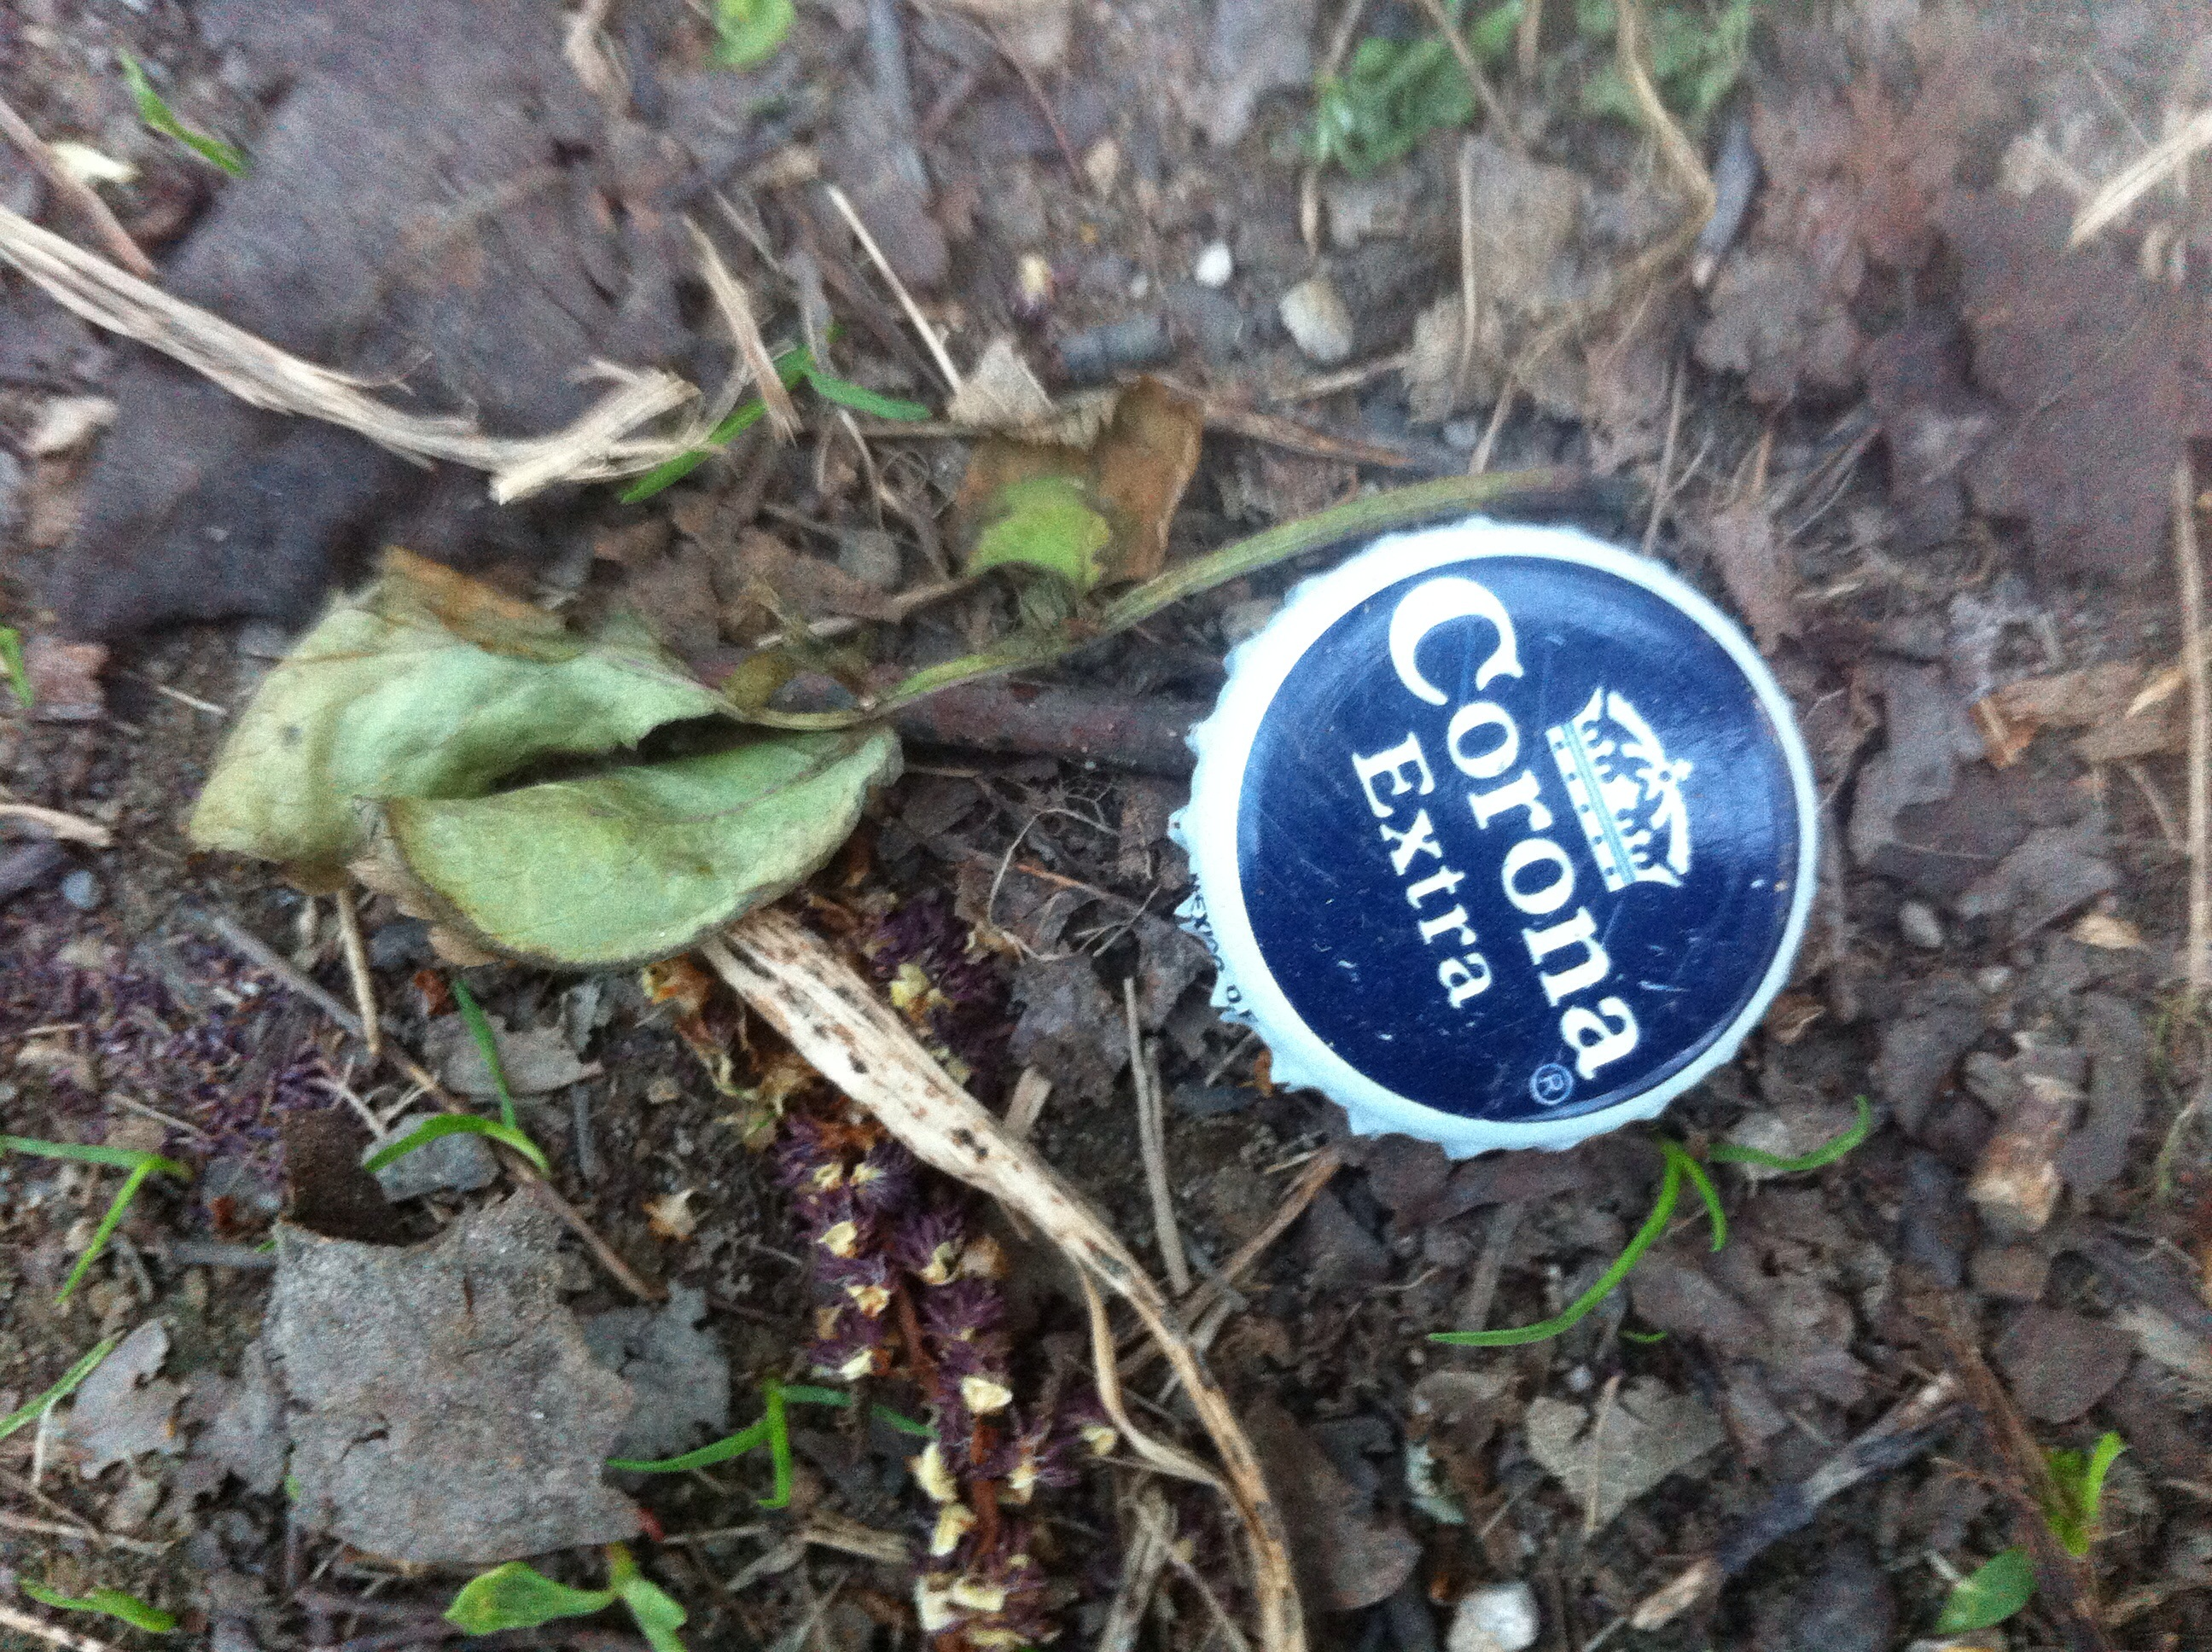corona: (1175, 514, 1820, 1170)
